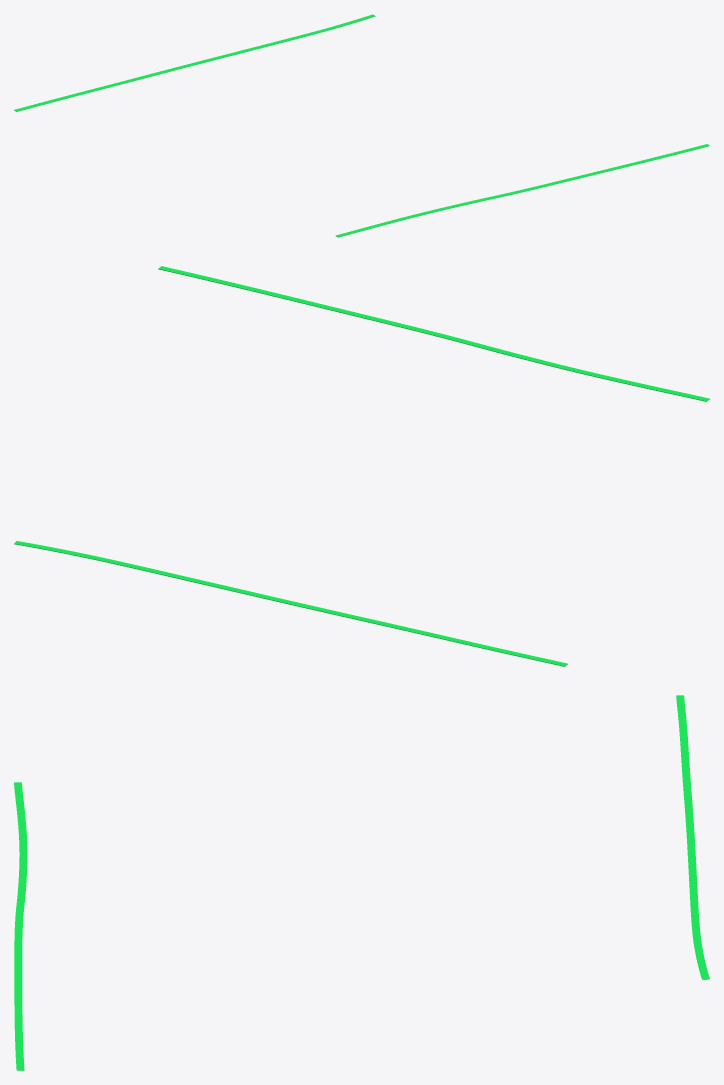
The model's file is LasVegasDrs.glb.
3 views of the same model, one above another, from view 1: azimuth 30°, elevation 25°; view 2: azimuth 150°, elevation 25°; view 3: azimuth 270°, elevation 25° (orthographic). The views are drawn at different scales.
Visible parts, largest first — view 1: DrsStrip_2, DrsStrip_1; view 2: DrsStrip_2, DrsStrip_1; view 3: DrsStrip_2, DrsStrip_1.
Part boxes in pixels (bbox=[...]): DrsStrip_2: bbox=[335, 144, 709, 237]; DrsStrip_1: bbox=[14, 14, 375, 111]; DrsStrip_2: bbox=[158, 266, 709, 401]; DrsStrip_1: bbox=[14, 541, 567, 666]; DrsStrip_2: bbox=[14, 782, 27, 1070]; DrsStrip_1: bbox=[676, 695, 709, 979].
Bounding box in the file's own units: 8.63 × 0.006 × 6.77.
